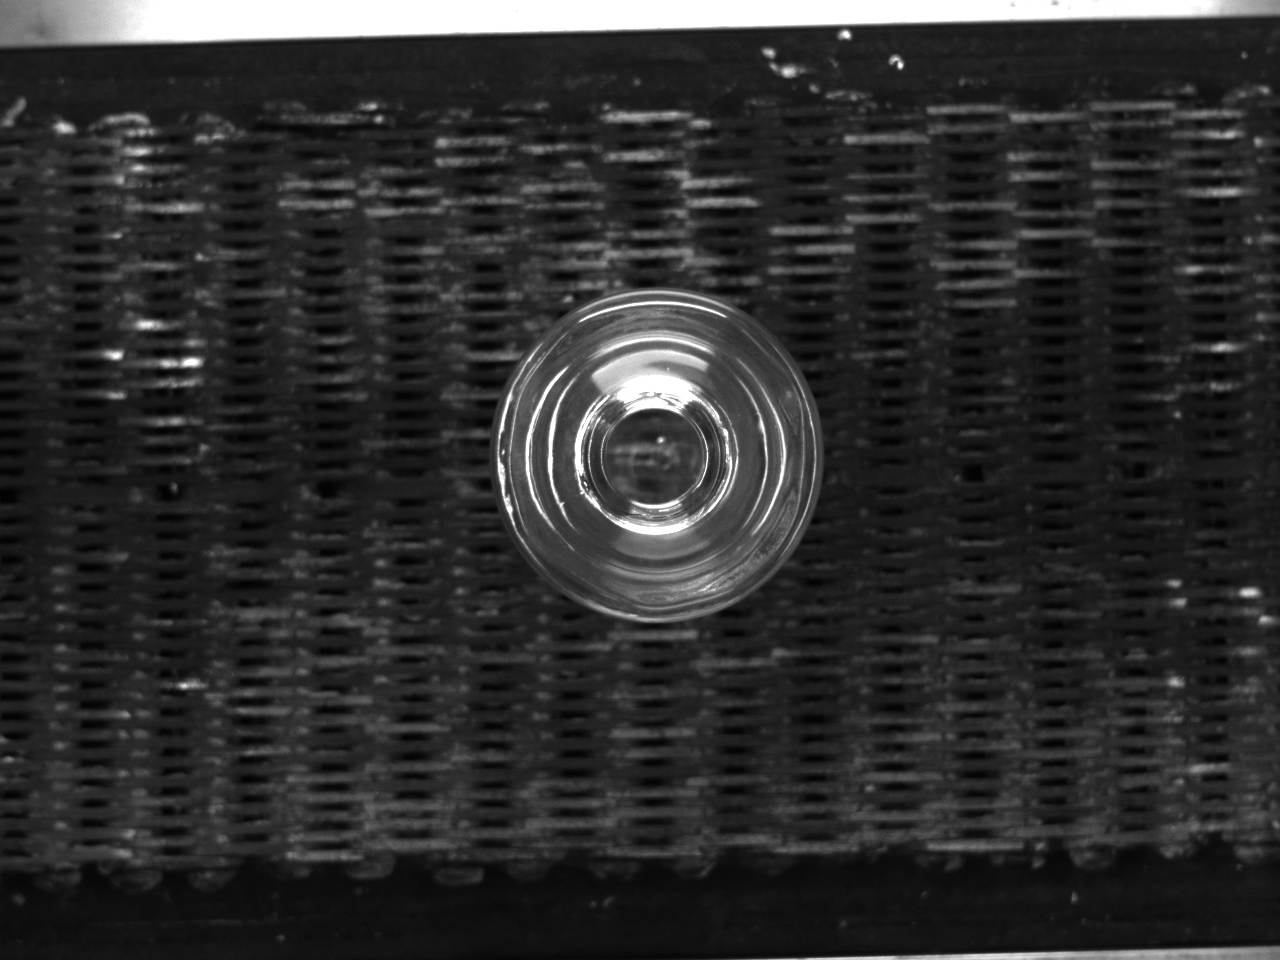bottleneck: (577, 379, 740, 534)
